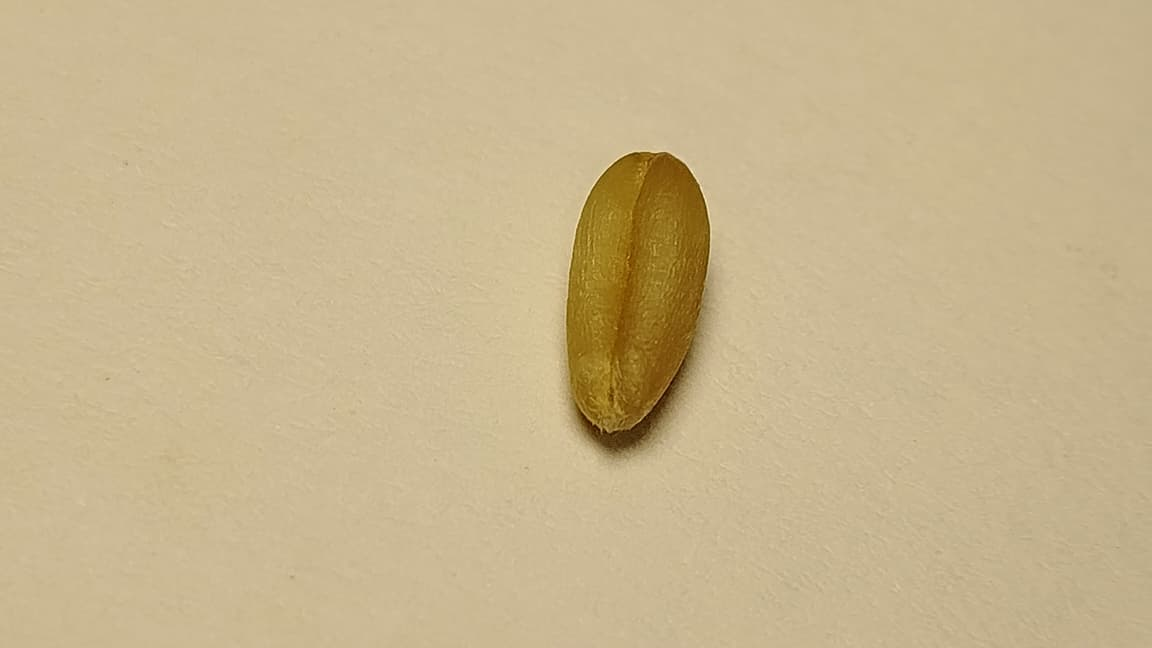healthy: (567, 153, 708, 430)
